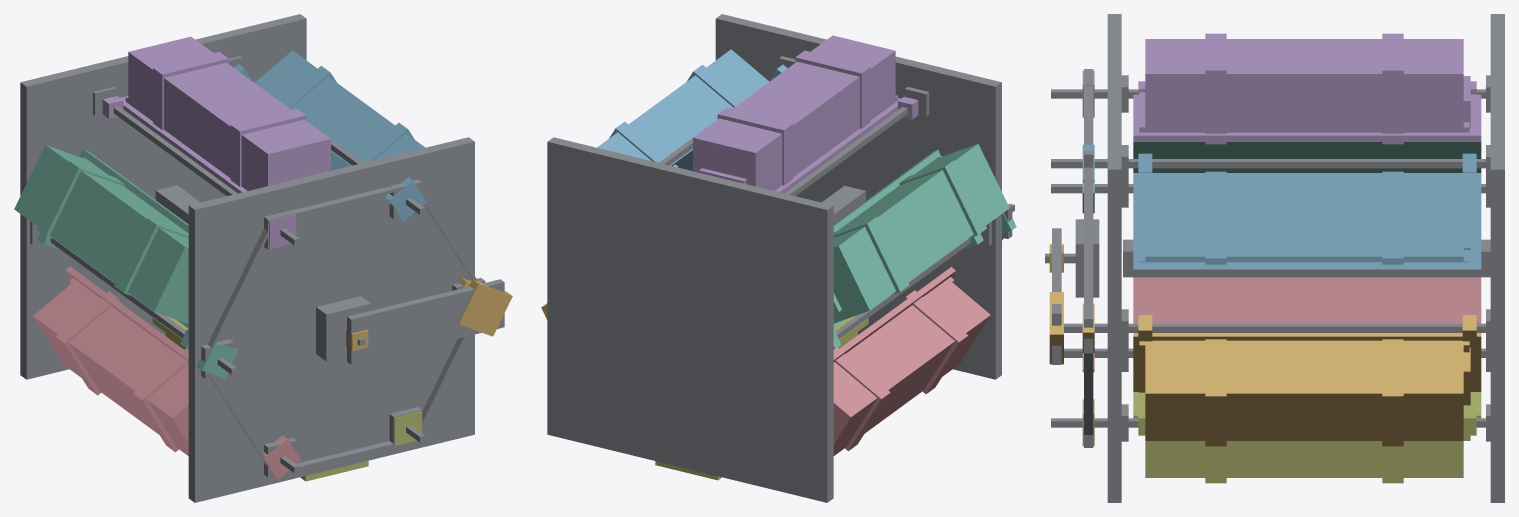
Rendered from display_envelopes.glb.
3 renders of one model, left to right at view 1: azimuth 30°, elevation 25°; view 2: azimuth 150°, elevation 25°; view 3: azimuth 270°, elevation 25°, orthographic. The views are drawn at different scales.
Parts seen in each view (by area): view 1: fixed/roof, fixed/base, door2/doll, door3/doll, door4/doll, door1/doll, fixed/input_belt_corridor, fixed/knob, door0/input_driven_60T, door2/torso_strap, fixed/shaft2, door2/leg_strap (+23 smaller); view 2: fixed/base, fixed/roof, door2/doll, door3/doll, door4/doll, door1/doll, door2/leg_strap, door2/torso_strap, door3/torso_strap, door4/torso_strap, door3/leg_strap, door4/leg_strap (+10 smaller); view 3: door0/doll, door2/doll, door1/doll, door4/board, door5/doll, fixed/base, fixed/roof, door3/board, door1/board, door2/board, fixed/shaft1, fixed/shaft0 (+25 smaller).
Boxes of the visible parts, bbox=[...] form: fixed/roof: bbox=[188, 137, 474, 502]; fixed/base: bbox=[20, 14, 306, 379]; door2/doll: bbox=[128, 36, 330, 189]; door3/doll: bbox=[14, 145, 188, 323]; door4/doll: bbox=[33, 283, 188, 455]; door1/doll: bbox=[254, 50, 425, 159]; fixed/input_belt_corridor: bbox=[347, 279, 504, 364]; fixed/knob: bbox=[316, 296, 371, 361]; door0/input_driven_60T: bbox=[458, 279, 512, 336]; door2/torso_strap: bbox=[230, 108, 306, 186]; fixed/shaft2: bbox=[113, 106, 299, 245]; door2/leg_strap: bbox=[153, 52, 228, 129]; fixed/base: bbox=[547, 137, 833, 502]; fixed/roof: bbox=[715, 14, 1001, 379]; door2/doll: bbox=[693, 35, 895, 189]; door3/doll: bbox=[833, 144, 1009, 323]; door4/doll: bbox=[833, 282, 990, 455]; door1/doll: bbox=[597, 49, 769, 160]; door2/leg_strap: bbox=[717, 107, 793, 185]; door2/torso_strap: bbox=[795, 50, 870, 128]; door3/torso_strap: bbox=[899, 160, 986, 238]; door4/torso_strap: bbox=[902, 290, 968, 393]; door3/leg_strap: bbox=[833, 217, 909, 295]; door4/leg_strap: bbox=[833, 347, 890, 451]; door0/doll: bbox=[1145, 345, 1463, 440]; door2/doll: bbox=[1145, 39, 1463, 127]; door1/doll: bbox=[1145, 174, 1463, 261]; door4/board: bbox=[1133, 277, 1481, 323]; door5/doll: bbox=[1145, 441, 1463, 477]; fixed/base: bbox=[1490, 14, 1504, 502]; fixed/roof: bbox=[1107, 14, 1121, 502]; door3/board: bbox=[1133, 142, 1481, 172]; door1/board: bbox=[1133, 173, 1481, 269]; door2/board: bbox=[1133, 94, 1481, 141]; fixed/shaft1: bbox=[1051, 159, 1485, 168]; fixed/shaft0: bbox=[1064, 323, 1485, 332].
Size of the model in its own units: 375 by 366 by 390.
